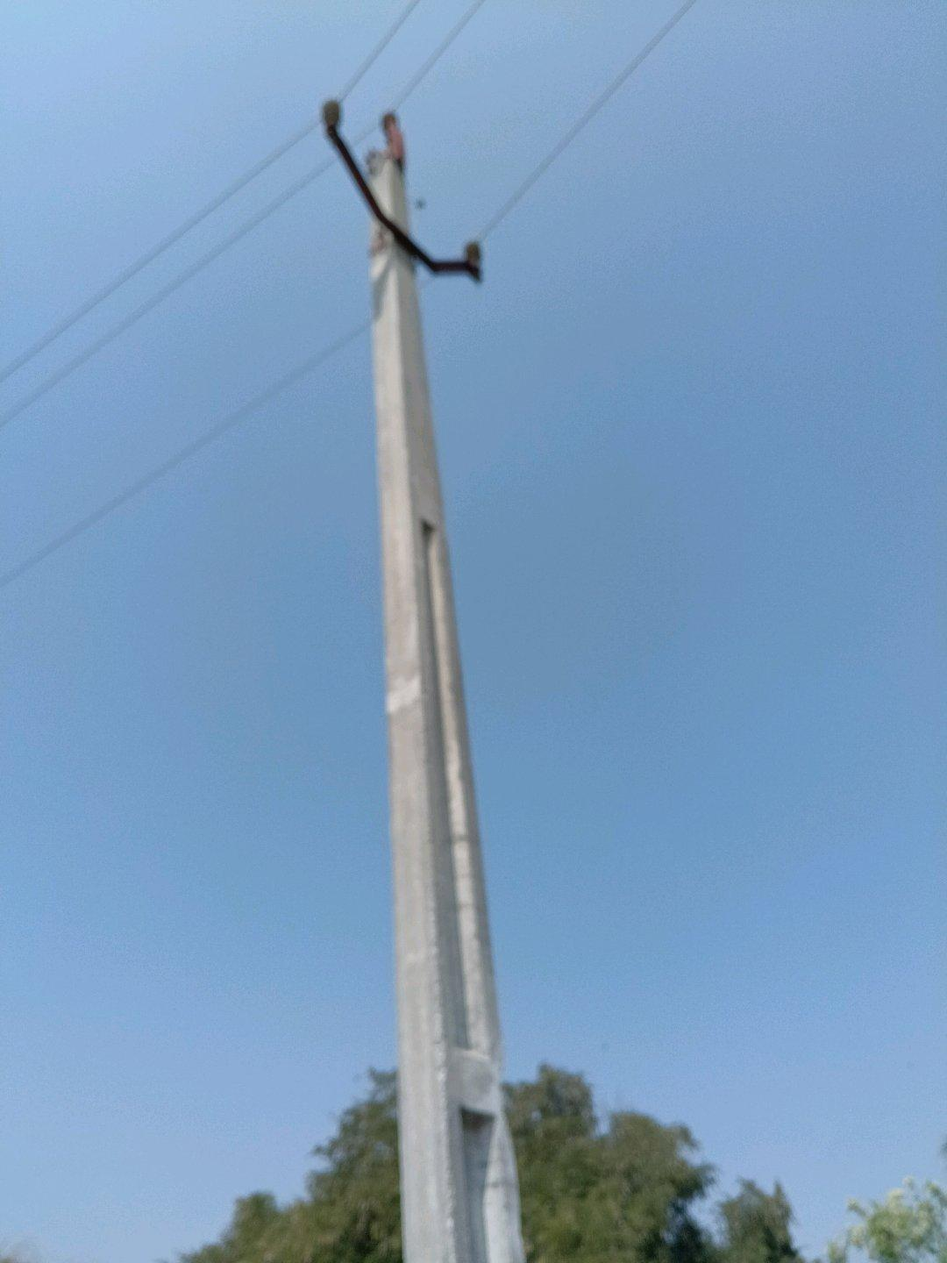{"0" "insulator", "1" "pole", "2" "crossarm", "3" "conductor", "4" "street_: (321, 101, 524, 1262), (585, 120, 587, 122), (594, 105, 595, 109)
